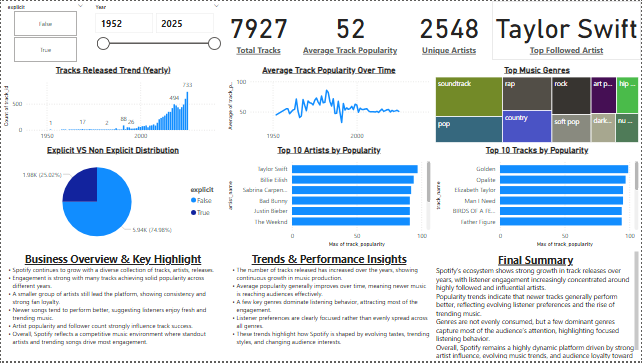

The dashboard page shown, as its layout file describes it:
{"tool":"powerbi","page":{"name":"Page 1","canvas":[1280,720],"ordinal":0},"visuals":[{"type":"card","title":"Total Tracks","fields":{"Values":["track_data_final.track_id"]},"box":[444,0,142,118],"z":0},{"type":"card","title":"Average Track Popularity","fields":{"Values":["track_data_final.track_popularity"]},"box":[586,0,224,118],"z":1},{"type":"clusteredBarChart","title":"Top 10 Artists by Popularity","fields":{"Category":["track_data_final.artist_name"],"Y":["track_data_final.artist_popularity"]},"box":[448,288,416,208],"z":2},{"type":"pieChart","title":"Explicit VS Non Explicit Distribution","fields":{"Category":["track_data_final.explicit"],"Y":["track_data_final.track_id"]},"box":[0,288,448,208],"z":4},{"type":"clusteredColumnChart","title":"Tracks Released Trend (Yearly)","fields":{"Category":["track_data_final.Year"],"Y":["track_data_final.track_id"]},"box":[0,128,448,160],"z":6},{"type":"card","title":"Unique Artists","fields":{"Values":["track_data_final.artist_name"]},"box":[810,0,172,118],"z":7},{"type":"card","fields":{"Values":["track_data_final.Top Artist"]},"box":[982,0,298,118],"z":8},{"type":"lineChart","title":"Average Track Popularity Over Time","fields":{"Category":["track_data_final.Year"],"Y":["track_data_final.track_popularity"]},"box":[448,128,416,160],"z":9},{"type":"clusteredBarChart","title":"Top 10 Tracks by Popularity","fields":{"Category":["track_data_final.track_name"],"Y":["track_data_final.track_popularity"]},"box":[864,288,416,208],"z":10},{"type":"slicer","fields":{"Values":["track_data_final.Year"]},"box":[176,0,272,128],"z":12},{"type":"slicer","fields":{"Values":["track_data_final.explicit"]},"box":[0,0,176,128],"z":13},{"type":"treemap","title":"Top Music Genres","fields":{"Group":["genre_table.artist_genres"],"Values":["genre_table.track_id"]},"box":[864,128,416,160],"z":14},{"type":"textbox","box":[0,496,448,224],"z":15},{"type":"textbox","box":[864,496,416,224],"z":16},{"type":"textbox","box":[448,496,416,224],"z":17}]}

Visuals, with their boxes in screenshot pixels (x1, y1, x2, y2), scaled from the page's 1280x720 canvas onto the 642x364 screenshot:
"Total Tracks" card: 223/0/294/60
"Average Track Popularity" card: 294/0/406/60
"Top 10 Artists by Popularity" clusteredBarChart: 225/146/433/251
"Explicit VS Non Explicit Distribution" pieChart: 0/146/225/251
"Tracks Released Trend (Yearly)" clusteredColumnChart: 0/65/225/146
"Unique Artists" card: 406/0/493/60
card - track_data_final.Top Artist: 493/0/641/60
"Average Track Popularity Over Time" lineChart: 225/65/433/146
"Top 10 Tracks by Popularity" clusteredBarChart: 433/146/641/251
slicer - track_data_final.Year: 88/0/225/65
slicer - track_data_final.explicit: 0/0/88/65
"Top Music Genres" treemap: 433/65/641/146
textbox: 0/251/225/363
textbox: 433/251/641/363
textbox: 225/251/433/363
